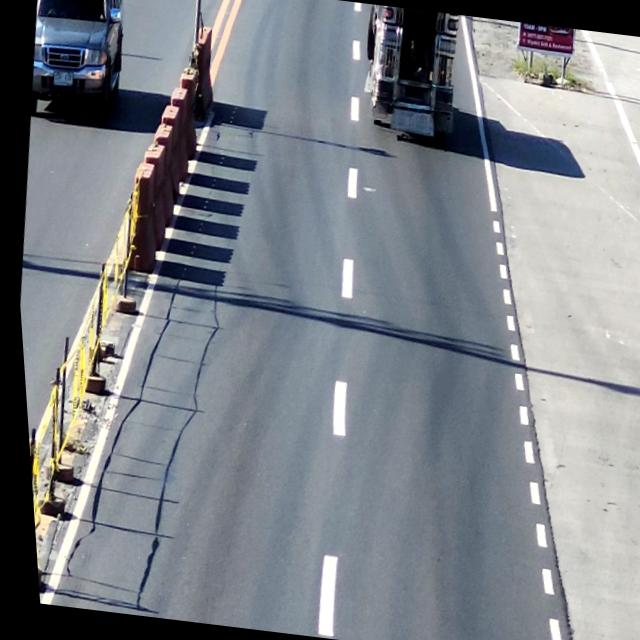Jeep: (358, 5, 466, 150)
